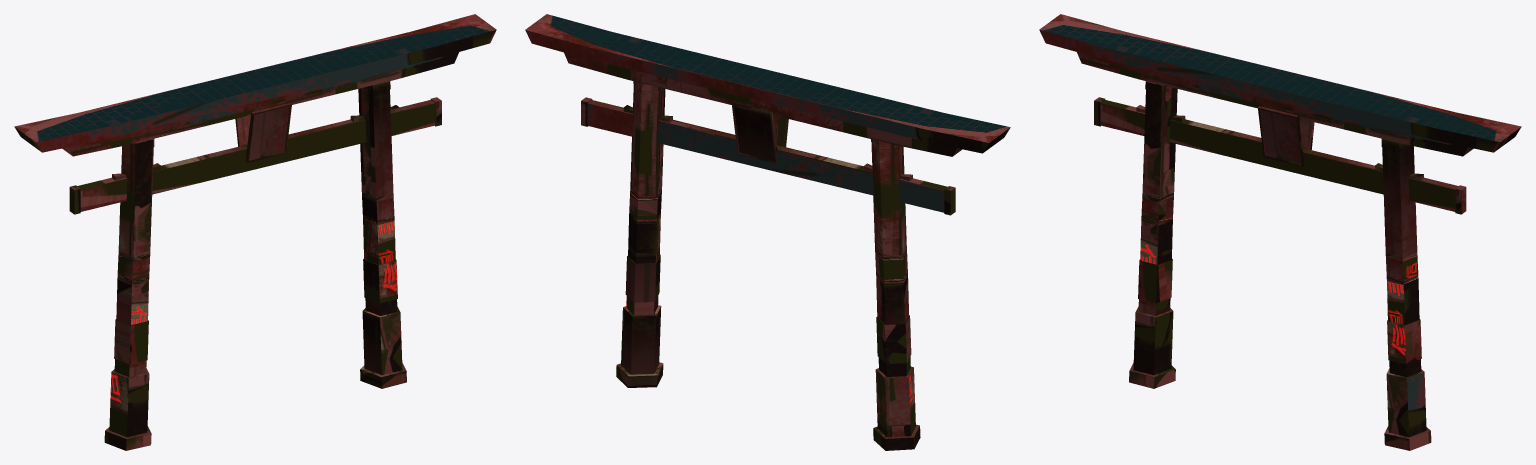
Rendered from toriii do djabo.fbx.
3 renders of one model, left to right at view 1: azimuth 30°, elevation 25°; view 2: azimuth 150°, elevation 25°; view 3: azimuth 330°, elevation 25°, orthographic.
Parts seen in each view (by area): view 1: Cube.005; view 2: Cube.005; view 3: Cube.005.
Boxes of the visible parts, x1=… form: Cube.005: x1=14, y1=14, x2=496, y2=450; Cube.005: x1=525, y1=14, x2=1010, y2=450; Cube.005: x1=1039, y1=14, x2=1521, y2=450.
Bounding box in the file's own units: 1090 × 748 × 91.29.
